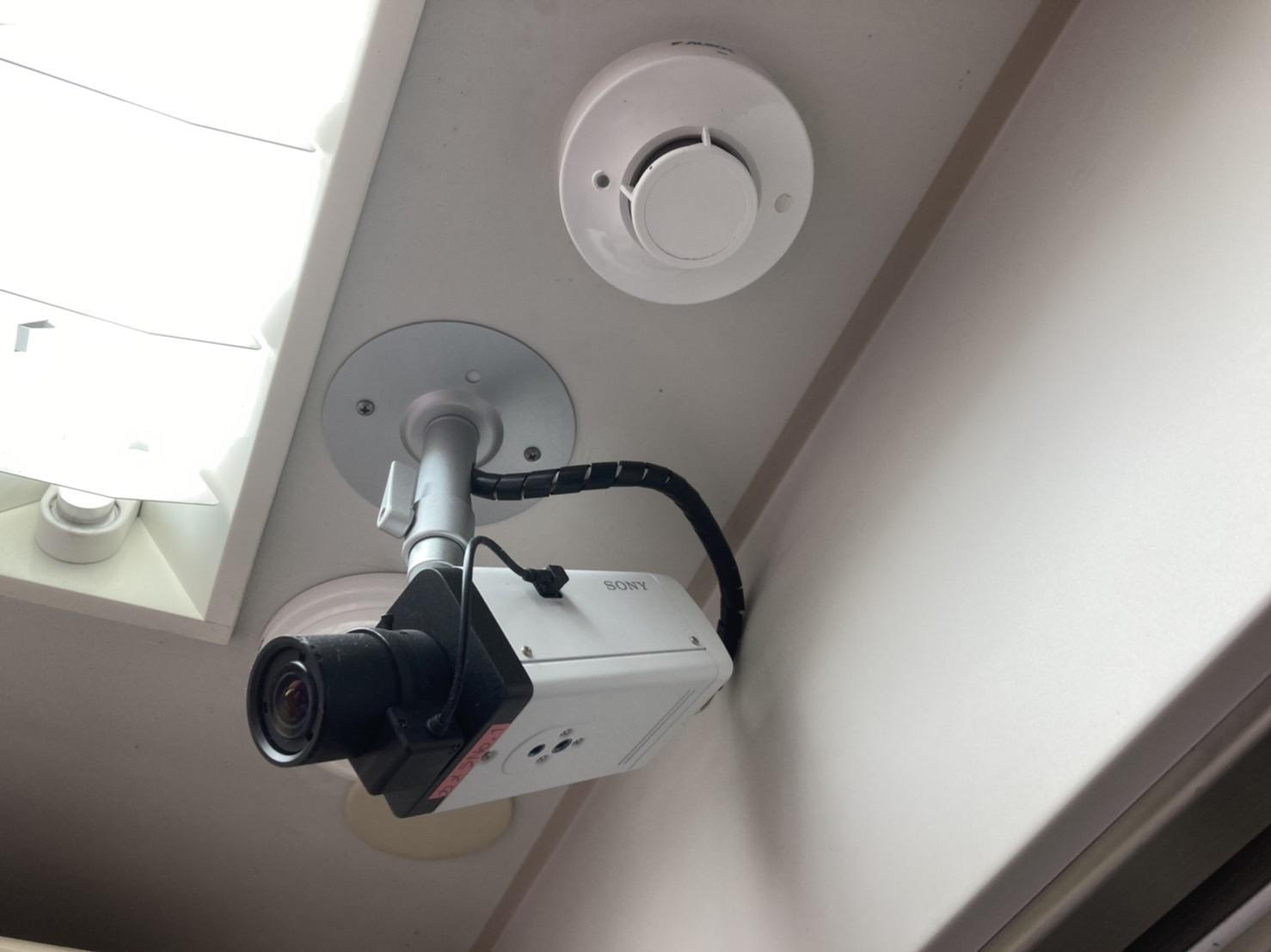tutu: (246, 555, 762, 825)
